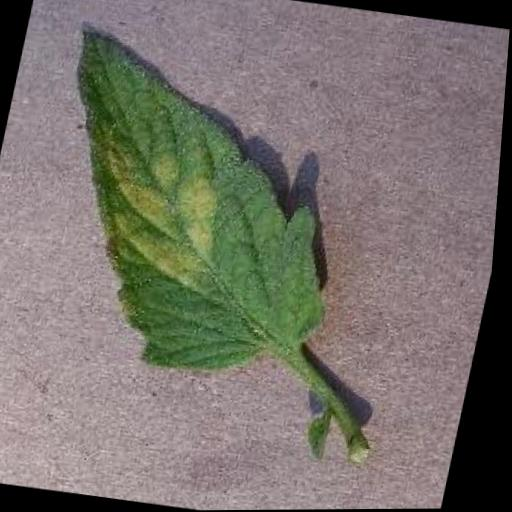Leaf Mold: (16, 23, 386, 394)
